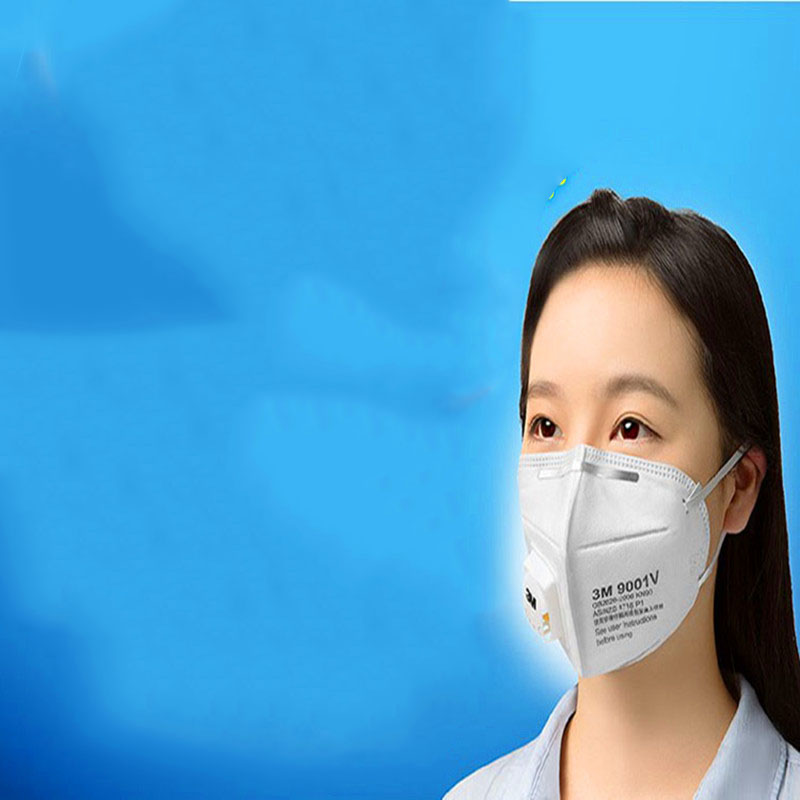face_mask: (517, 261, 722, 678)
